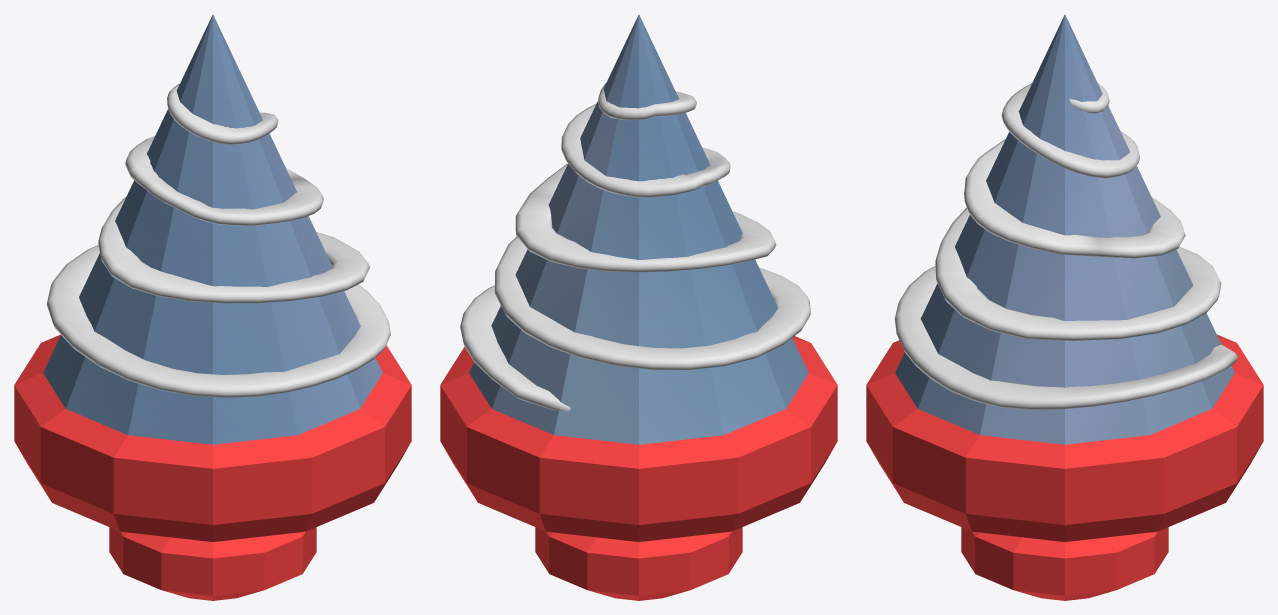
File: drill.fbx
3 views of the same model, side by side, from view 1: azimuth 30°, elevation 25°; view 2: azimuth 150°, elevation 25°; view 3: azimuth 270°, elevation 25° (orthographic).
Parts seen in each view (by area): view 1: dril, spiral; view 2: dril, spiral; view 3: dril, spiral.
Part boxes in pixels (left/top/right/bottom): dril: left=14, top=14, right=411, bottom=600; spiral: left=46, top=84, right=390, bottom=397; dril: left=440, top=14, right=837, bottom=600; spiral: left=460, top=82, right=810, bottom=411; dril: left=866, top=14, right=1263, bottom=600; spiral: left=894, top=83, right=1237, bottom=409.
Bounding box in the file's own units: 63.41 × 99.82 × 63.41.
